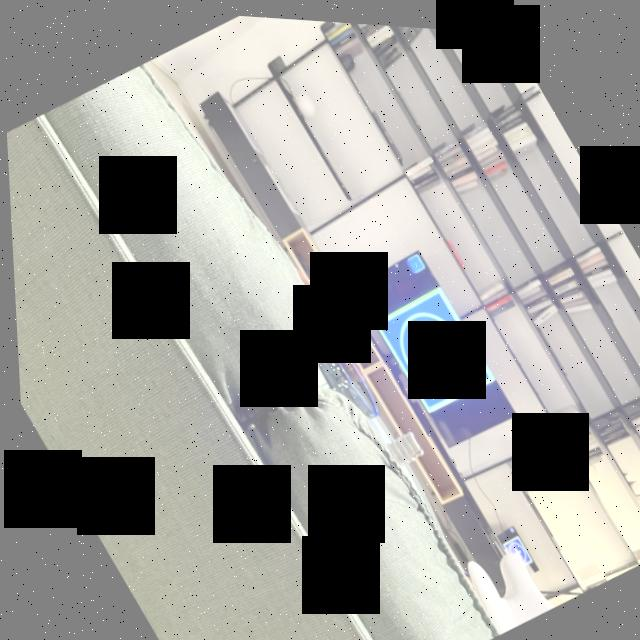Marker: (370, 277, 493, 410), (496, 527, 528, 563), (404, 246, 425, 268)
